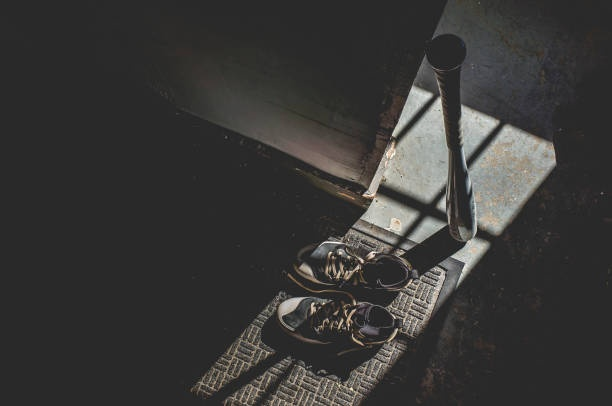bita: (425, 32, 481, 241)
